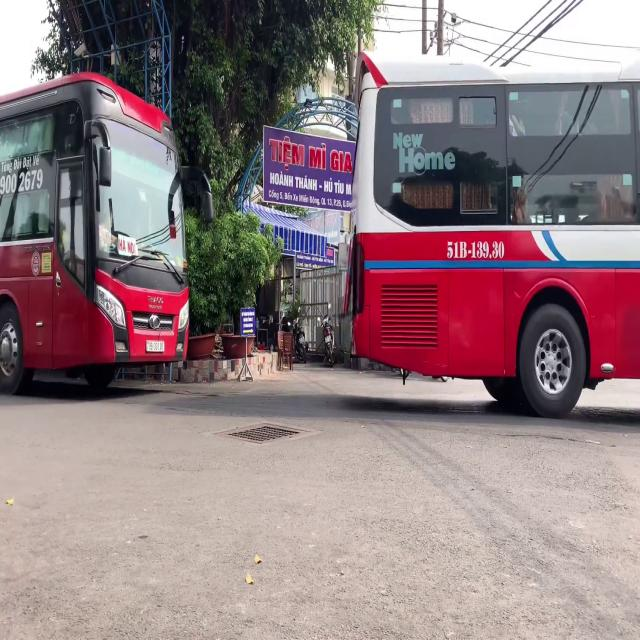bien_trang: (146, 339, 164, 353)
